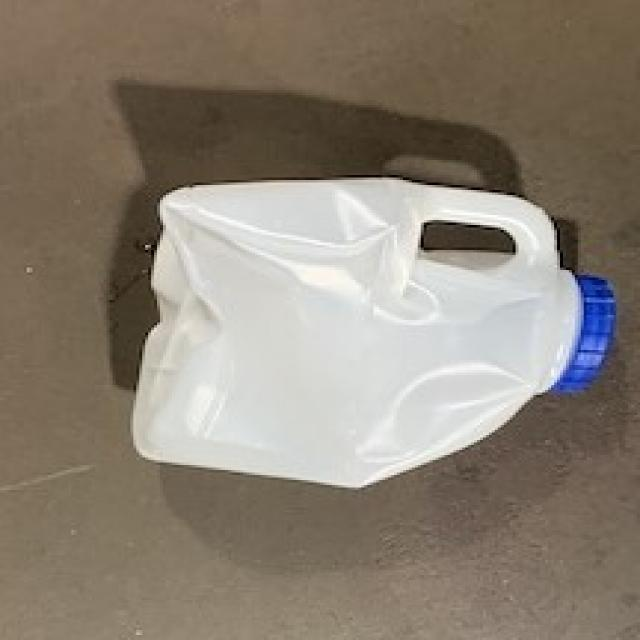HDPE Plastic: (126, 175, 621, 492)
